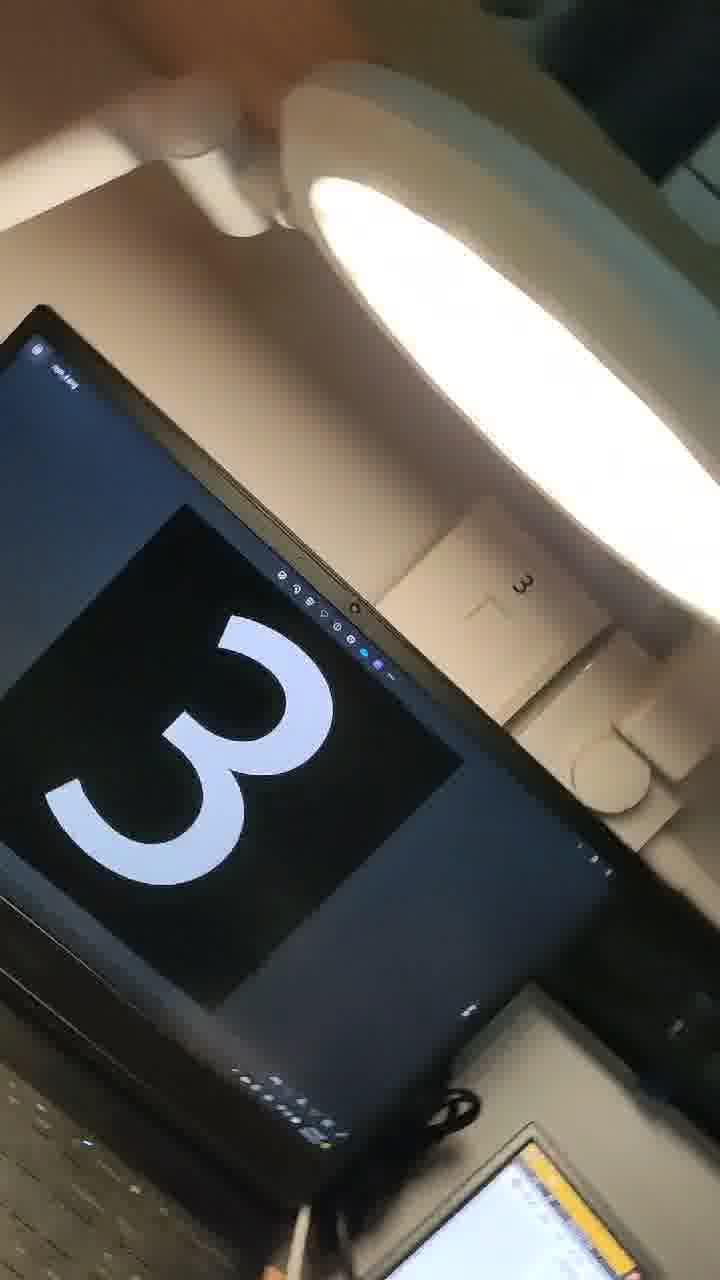three: (18, 576, 333, 939)
